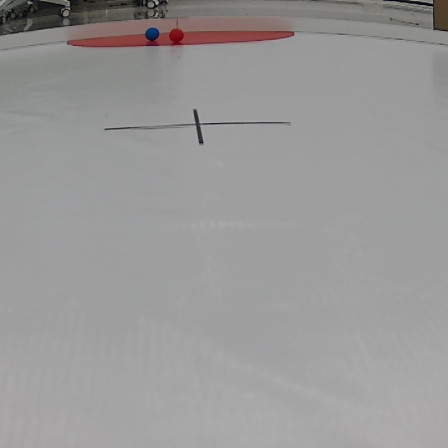blue: (147, 27, 159, 43)
red: (168, 27, 188, 42)
red_base: (67, 31, 290, 47)
